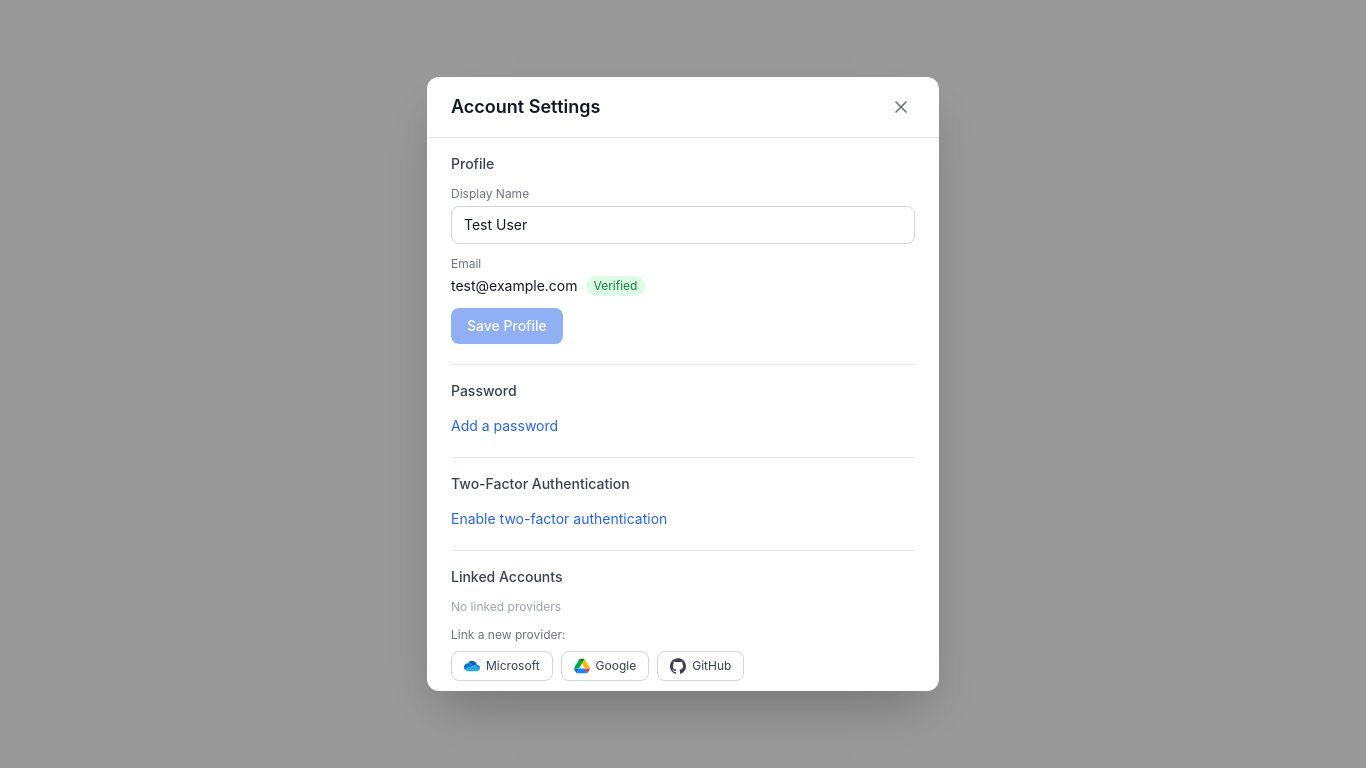
Test: AccountModal › shows confirm password validation error on mismatch
Click the button "Add a password".
click(505, 426)  # box [451,416,558,436]
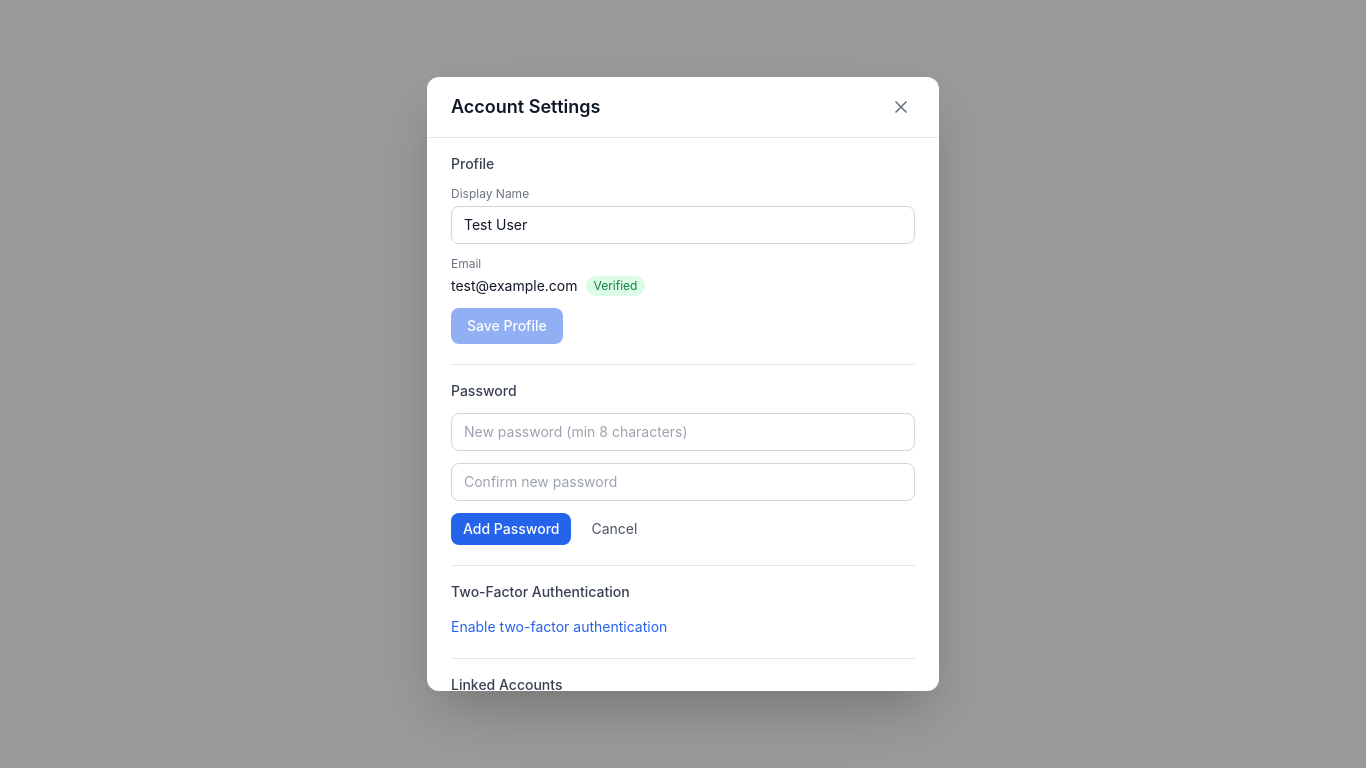
Type "Password123!" into the password field with placeholder "New password (min 8 characters)".
click(683, 432); type("Password123!")  # box [451,413,915,451]
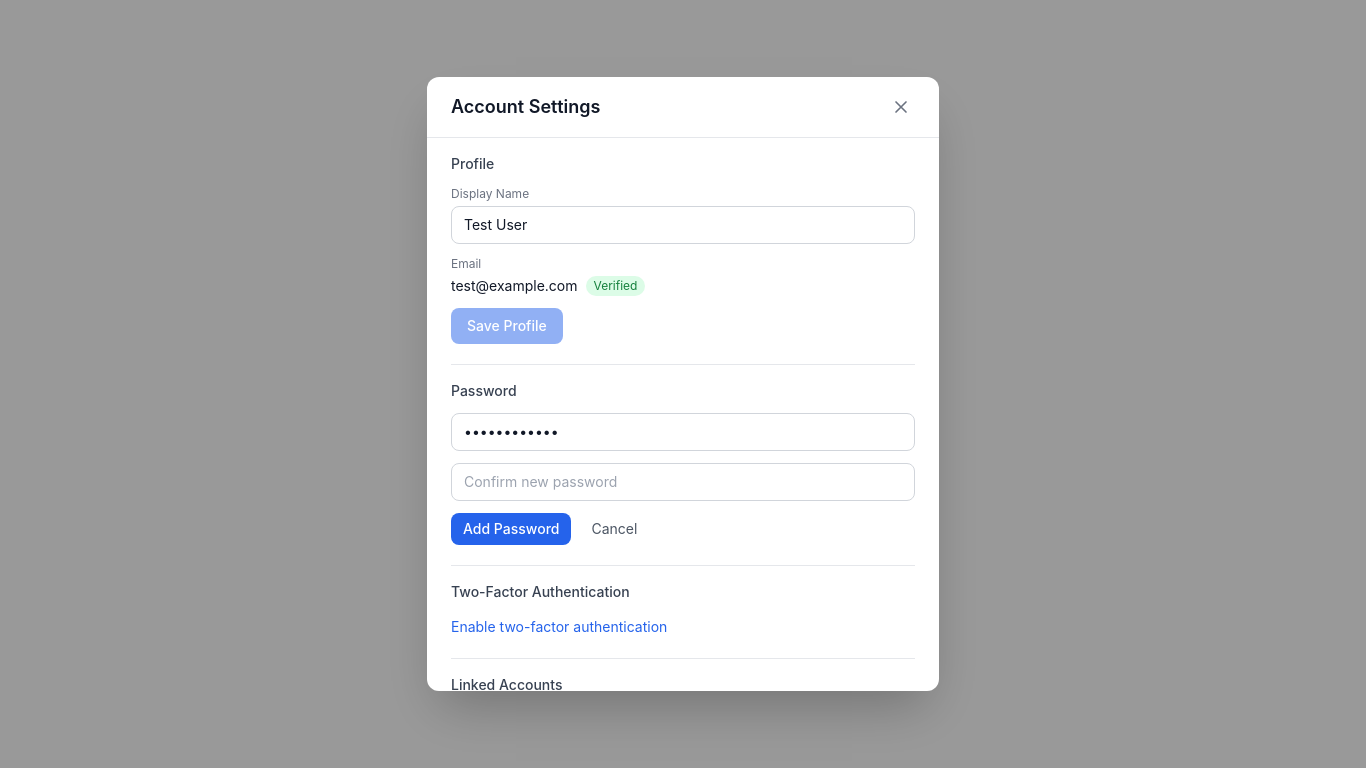
Type "Different456!" into the password field with placeholder "Confirm new password".
click(683, 482); type("Different456!")  # box [451,463,915,501]
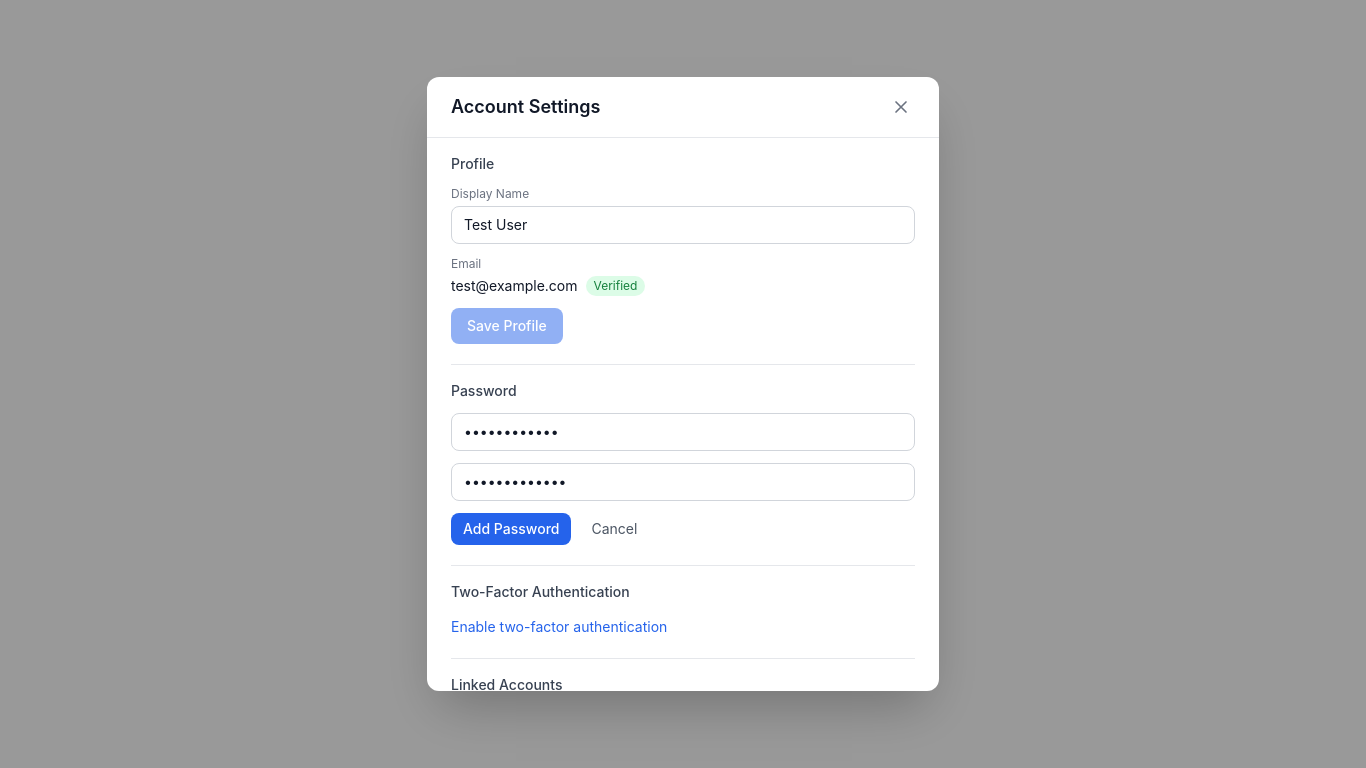
Click the button "Add Password".
click(511, 529)  # box [451,513,572,545]
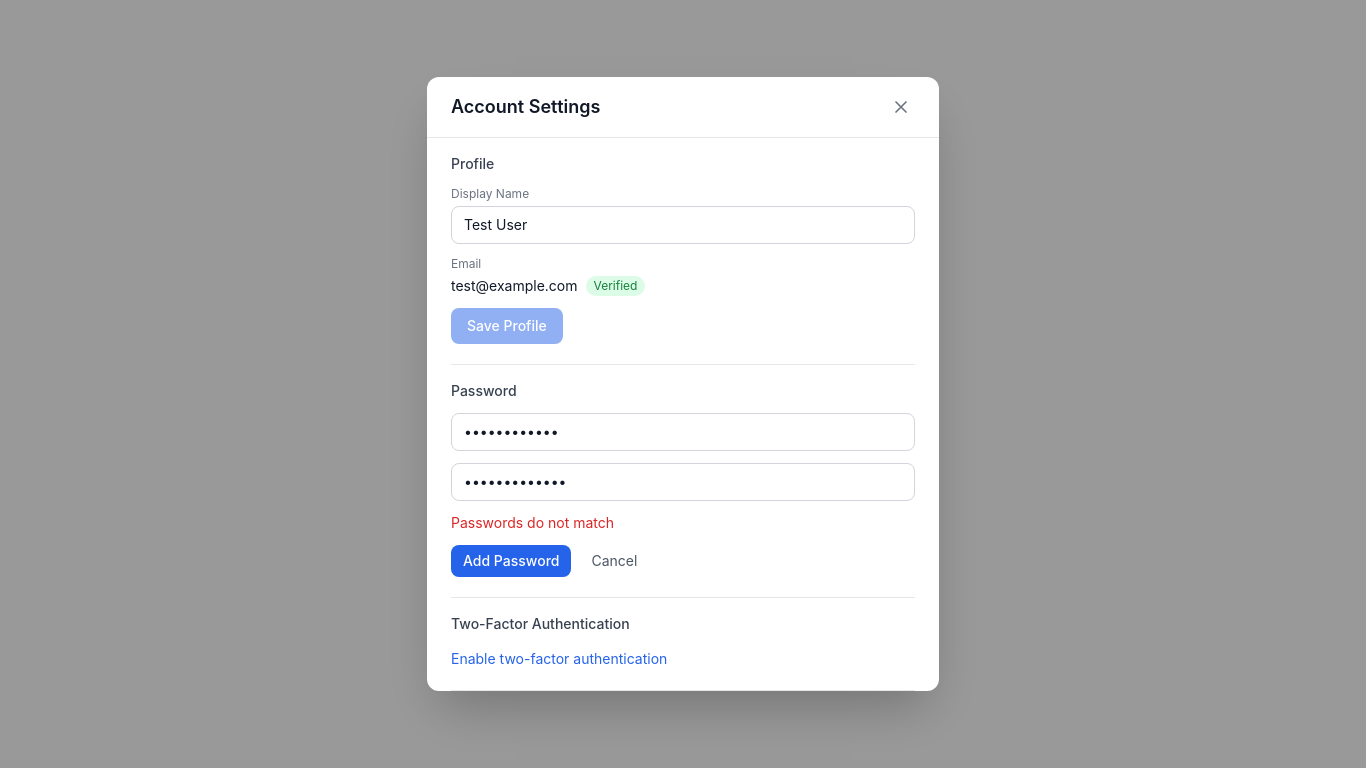
Expected: the text "Passwords do not match" is shown, [451,514,614,531]
